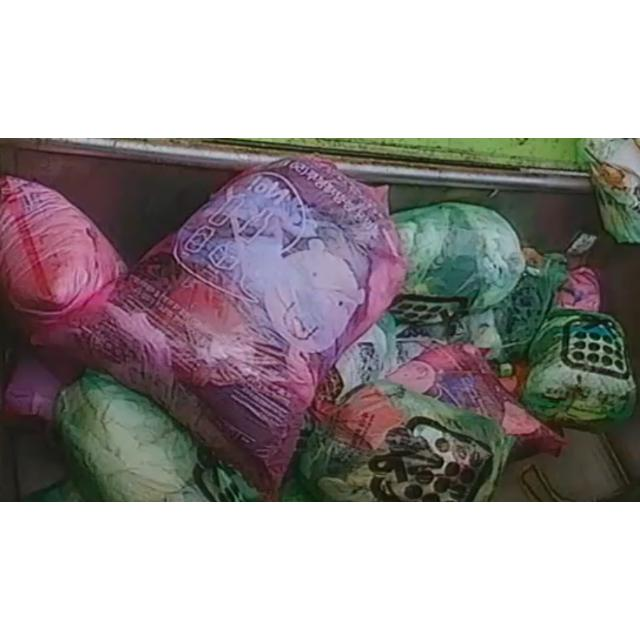general_trashbag: (300, 380, 515, 502), (58, 372, 258, 502), (390, 203, 525, 325), (522, 309, 636, 421)
other_trashbag: (32, 159, 406, 499), (0, 176, 126, 320)
